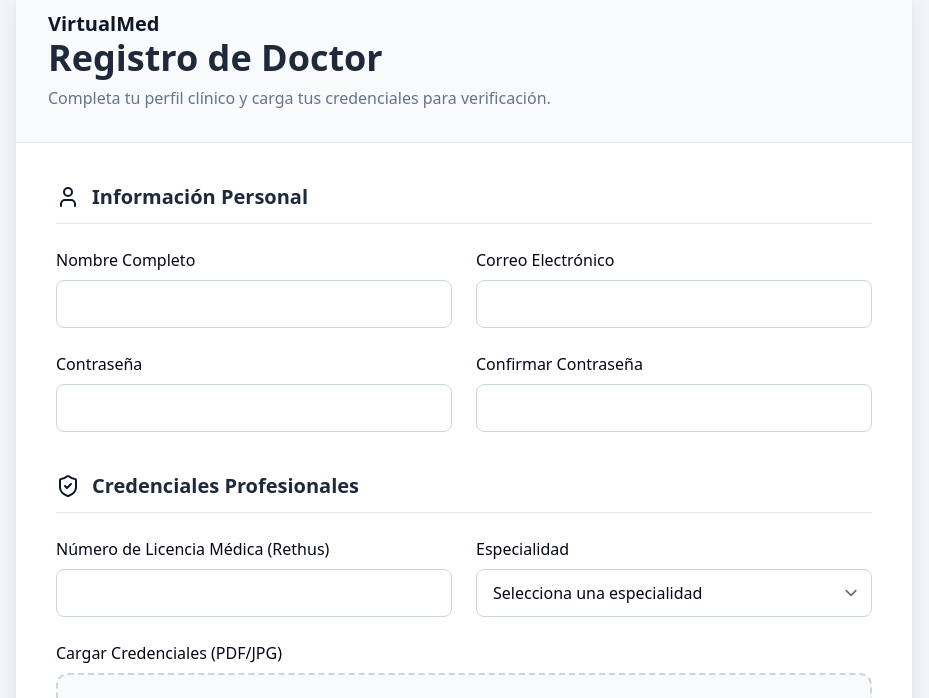
Scenario: DoctorRegistrationForm › Validación de contraseña › debe mostrar error cuando las contraseñas no coinciden
This screenshot has width=929, height=698.
Type "Password123!" into the 1st password field named "password". click: (254, 408)
box: [56,384,452,432]
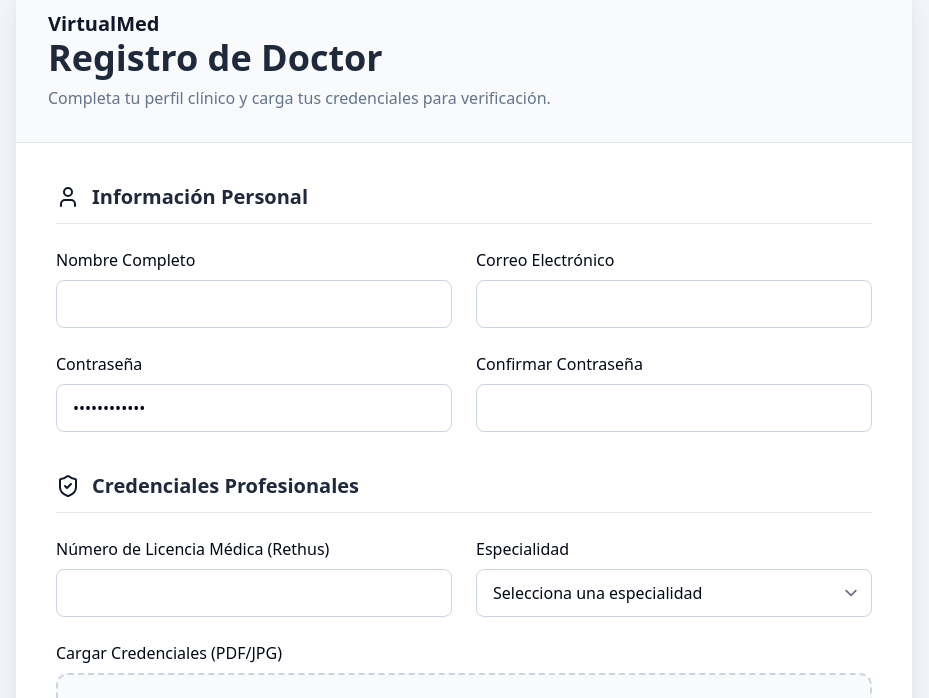
Type "OtraPassword123!" into the password field named "confirmPassword" below "Confirmar Contraseña". click: (674, 408)
box: [476,384,872,432]
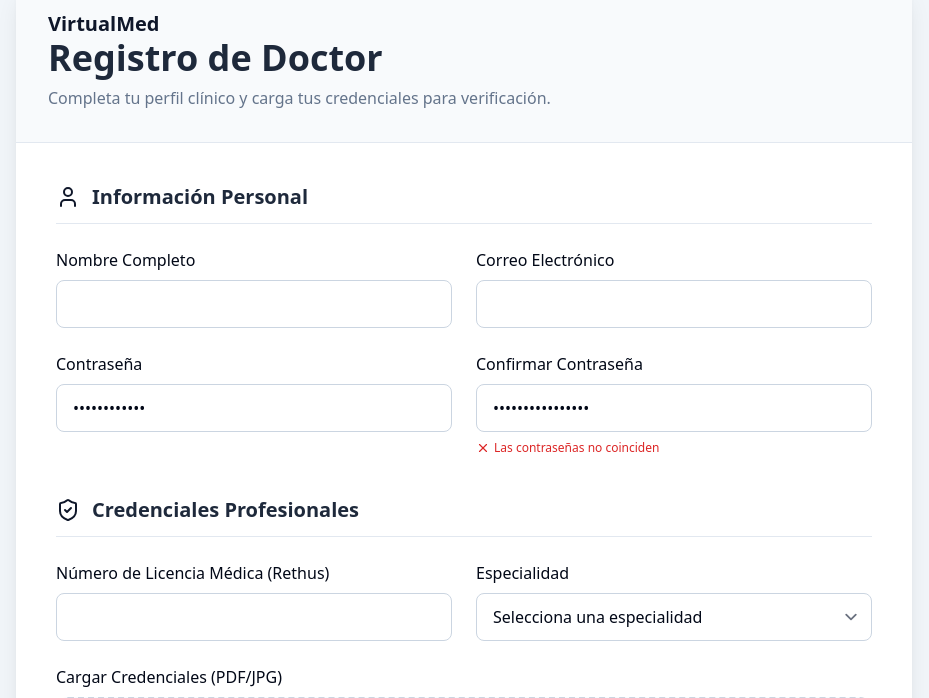
Result: the text "Las contraseñas no coinciden" is shown at [476,439,659,456]
